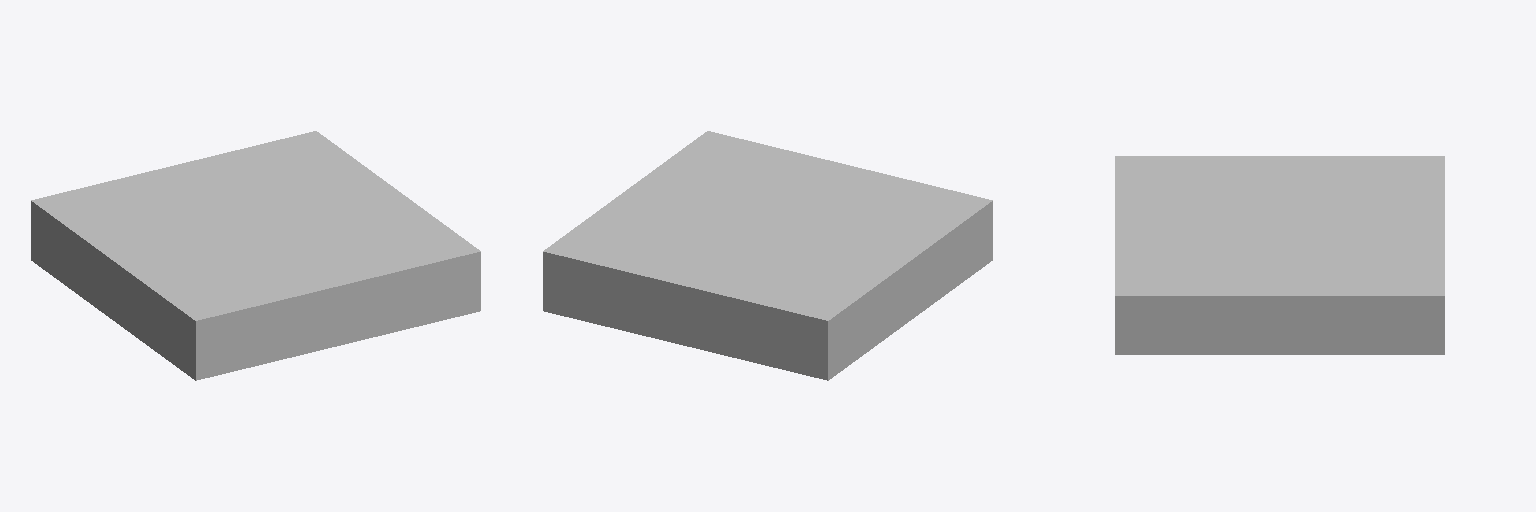
The model's file is The Test Room.obj.
3 views of the same model, side by side, from view 1: azimuth 30°, elevation 25°; view 2: azimuth 150°, elevation 25°; view 3: azimuth 270°, elevation 25° (orthographic).
Parts seen in each view (by area): view 1: Cube.002; view 2: Cube.002; view 3: Cube.002.
Boxes of the visible parts, x1,y1,x2,y2 form: Cube.002: [31, 131, 480, 380]; Cube.002: [543, 131, 992, 380]; Cube.002: [1115, 156, 1444, 354].
Bounding box in the file's own units: 10 × 2.01 × 10.